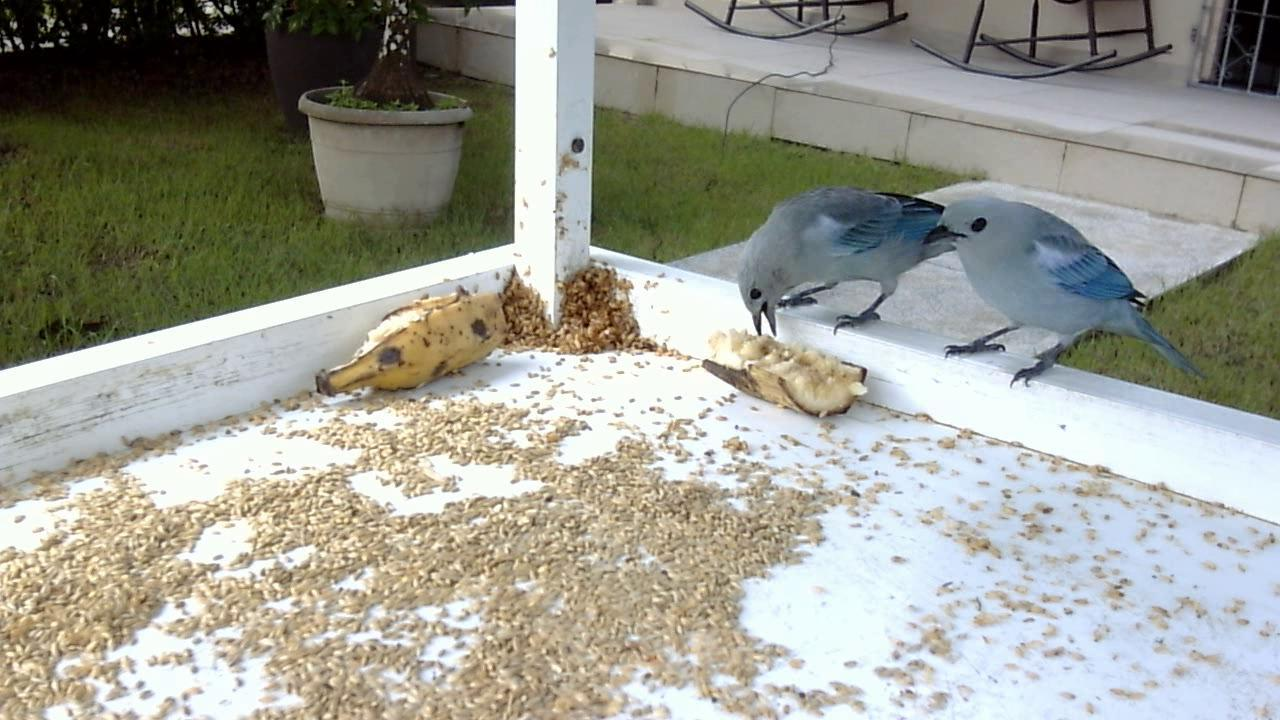sanhaco_da_amazonia: (900, 181, 1229, 406), (728, 170, 983, 360)
